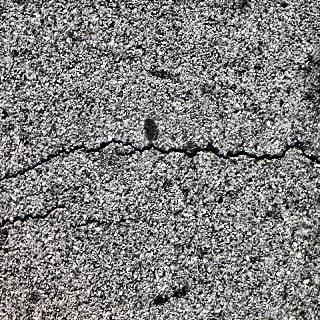crack: (5, 136, 320, 190), (0, 205, 67, 230)
